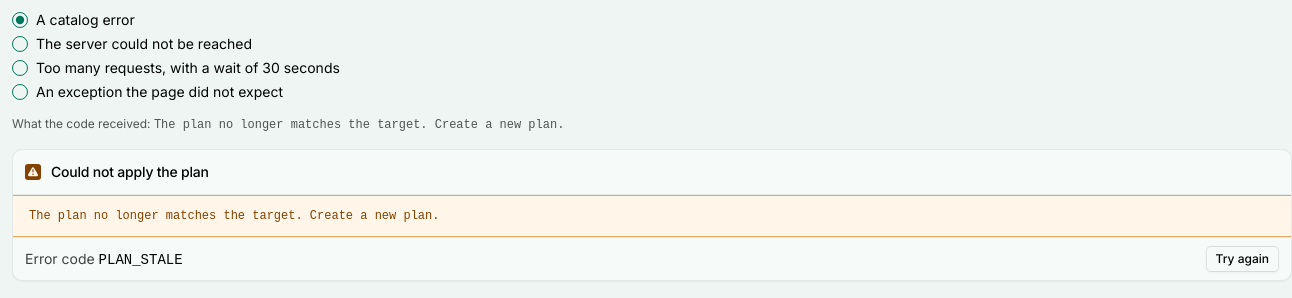
Test case: error handling › shows catalog text with its code and fixed text for everything else
Expected: the message shows "The plan no longer matches the target. Create a new plan.", x1=29 y1=209 x2=440 y2=223
Expected: the message shows "PLAN_STALE", x1=99 y1=252 x2=183 y2=268
Click the radio button named "The server could not be reached" next to "The server could not be reached".
click(20, 44)  # box x1=12 y1=36 x2=28 y2=52
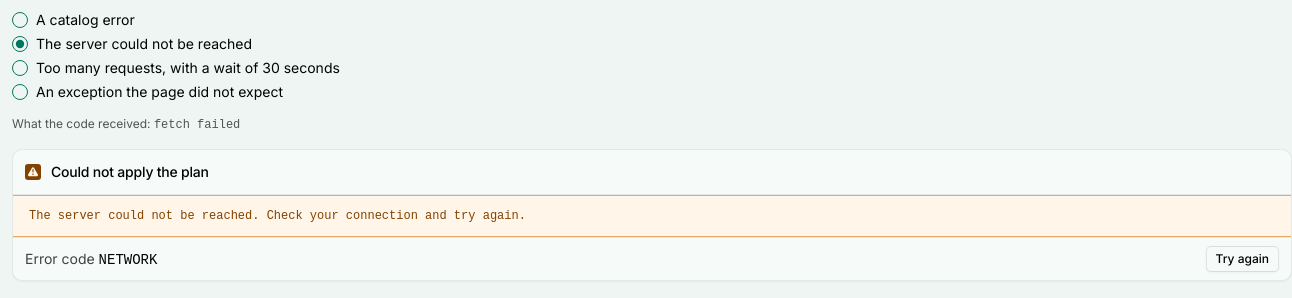
Expected: the message does not show "fetch failed", x1=12 y1=149 x2=1291 y2=281
Expected: the message shows "The server could not be reached. Check your connection and try again.", x1=29 y1=209 x2=526 y2=223
Expected: the message shows "NETWORK", x1=99 y1=252 x2=157 y2=268
Click the 3rd radio button named "Too many requests".
click(20, 68)  # box x1=12 y1=60 x2=28 y2=76
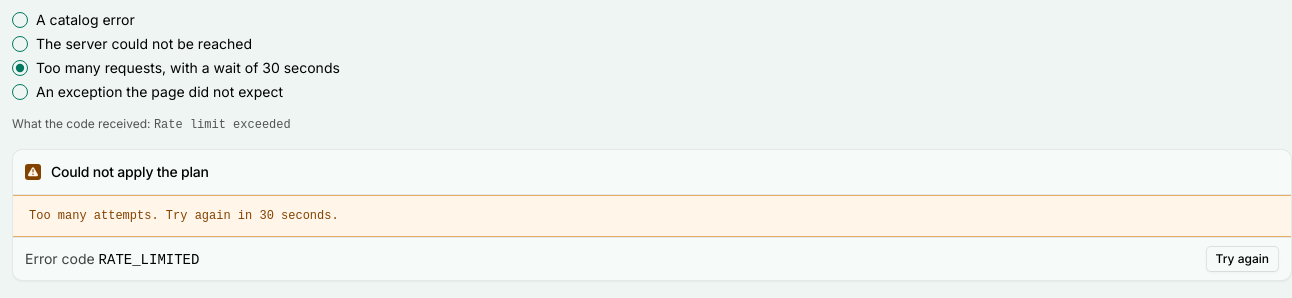
Expected: the message shows "Too many attempts. Try again in 30 seconds.", x1=29 y1=209 x2=339 y2=223
Expected: the message shows "RATE_LIMITED", x1=99 y1=252 x2=199 y2=268
Click the radio button named "An exception the page did not expect" next to "An exception the page did not expect".
click(20, 92)  # box x1=12 y1=84 x2=28 y2=100
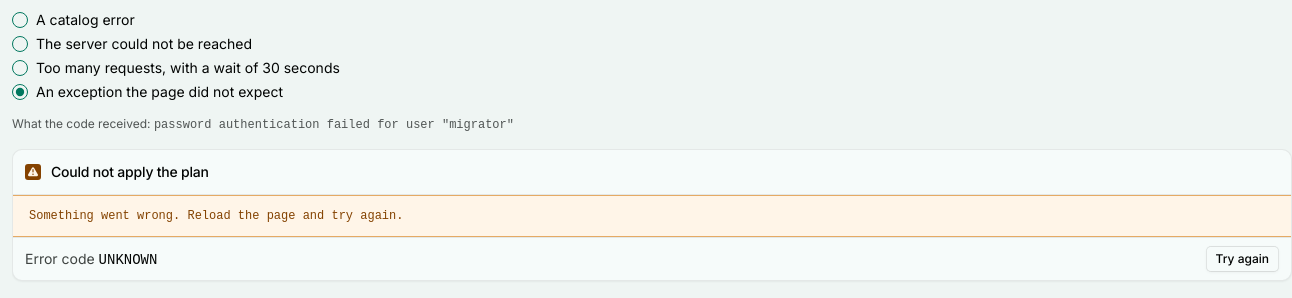
Expected: the message does not show "migrator", x1=12 y1=149 x2=1291 y2=281
Expected: the message shows "Something went wrong. Reload the page and try again.", x1=29 y1=209 x2=404 y2=223
Expected: the message shows "UNKNOWN", x1=99 y1=252 x2=157 y2=268
